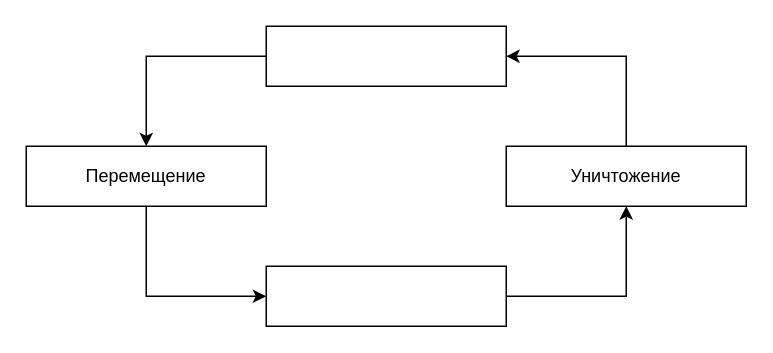
Some shapes in this 773 by 353 pixel diagram are drawn without their labels. Each missing label, with the centre of its shape:
"Подключение к серверу" goes at pixel 385 55.
"Поиск противников" goes at pixel 385 295.
